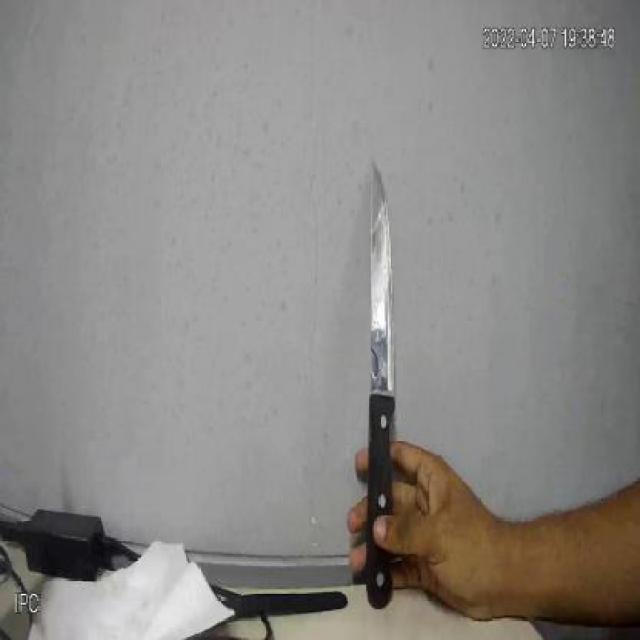-: (354, 146, 406, 612)
